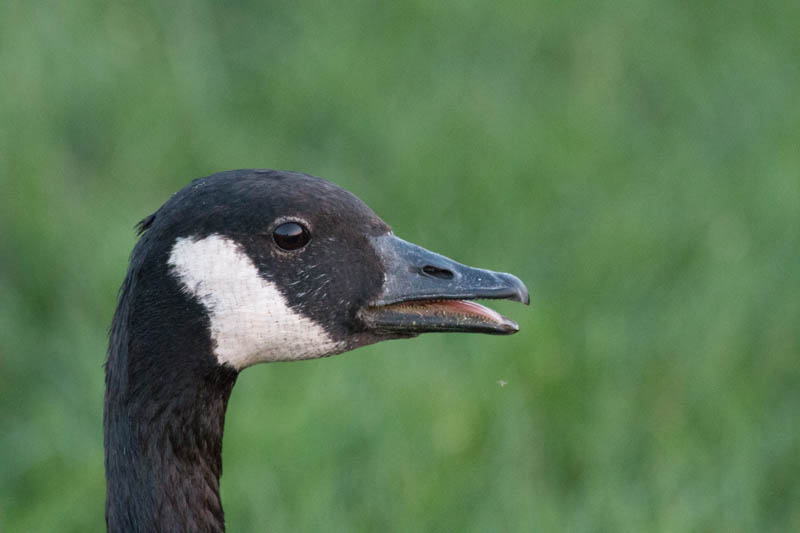goose-head: (107, 170, 530, 372)
